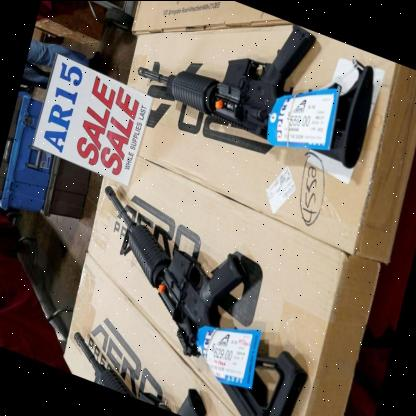rifle: (129, 0, 387, 177)
